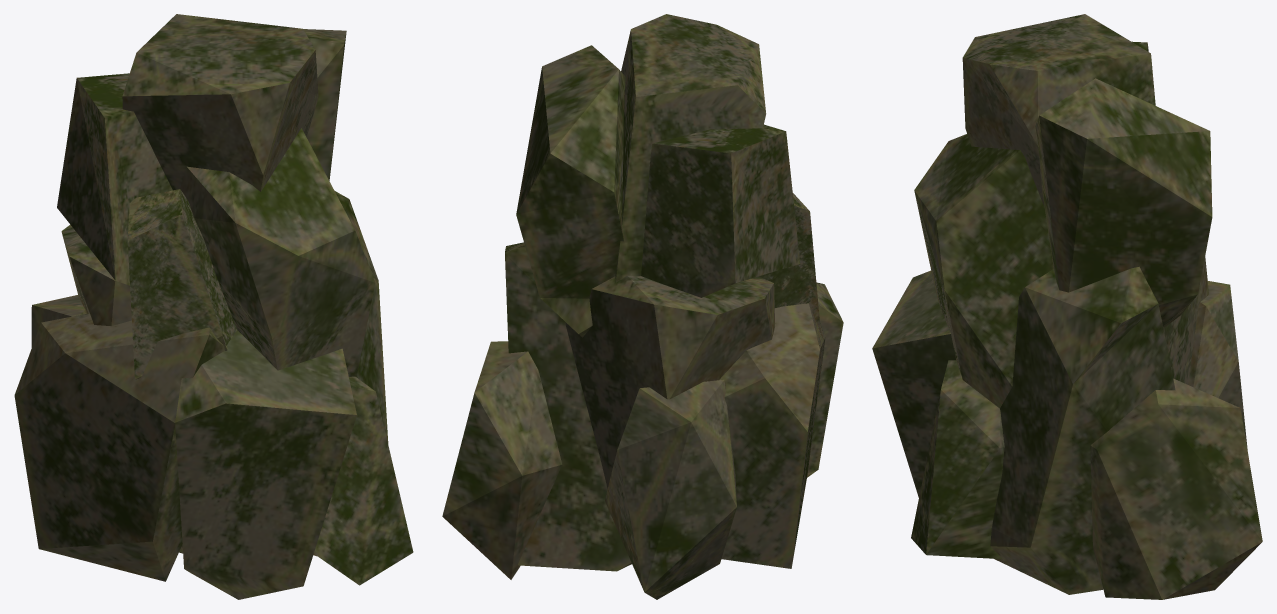
File: mossy rocks1.fbx
The picture shows the model from 3 angles, left to right: view 1: azimuth 30°, elevation 25°; view 2: azimuth 150°, elevation 25°; view 3: azimuth 270°, elevation 25°; orthographic projection. The views are drawn at different scales.
Visible parts, largest first — view 1: Mossy_Rock_Group4_M_Mossy_Rock_0; view 2: Mossy_Rock_Group4_M_Mossy_Rock_0; view 3: Mossy_Rock_Group4_M_Mossy_Rock_0.
Boxes of the visible parts, bbox=[...] form: Mossy_Rock_Group4_M_Mossy_Rock_0: bbox=[14, 14, 413, 599]; Mossy_Rock_Group4_M_Mossy_Rock_0: bbox=[442, 14, 843, 599]; Mossy_Rock_Group4_M_Mossy_Rock_0: bbox=[872, 14, 1262, 599].
Size of the model in its own units: 146 by 218 by 153.
1 material, 1 textured.
